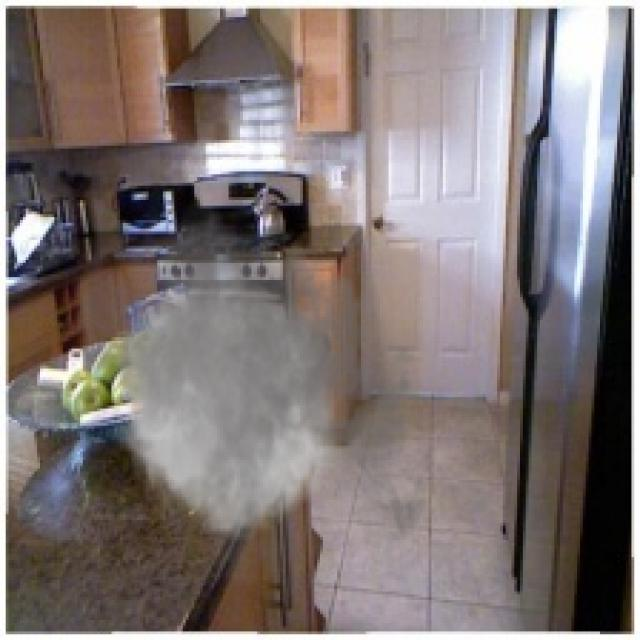smoke: (60, 188, 440, 612)
